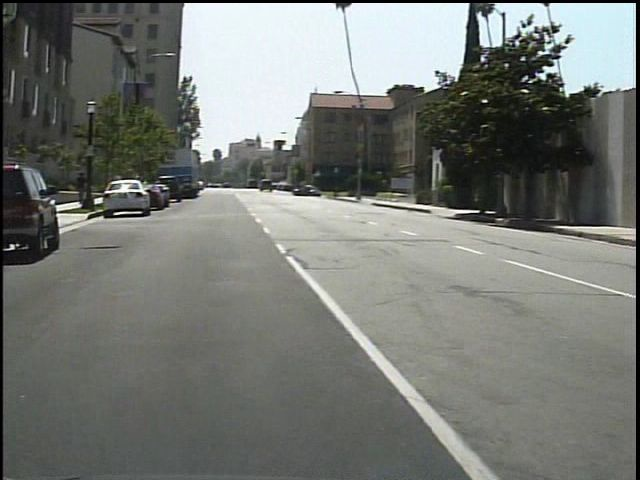person: (67, 168, 83, 205)
